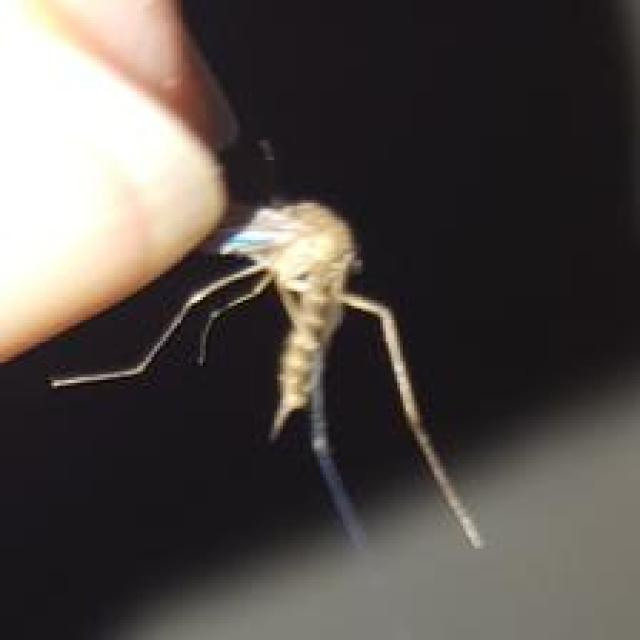Culex: (46, 138, 486, 553)
